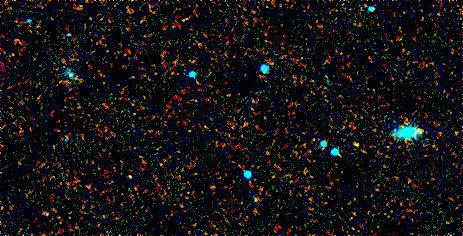star: (340, 130, 370, 160)
